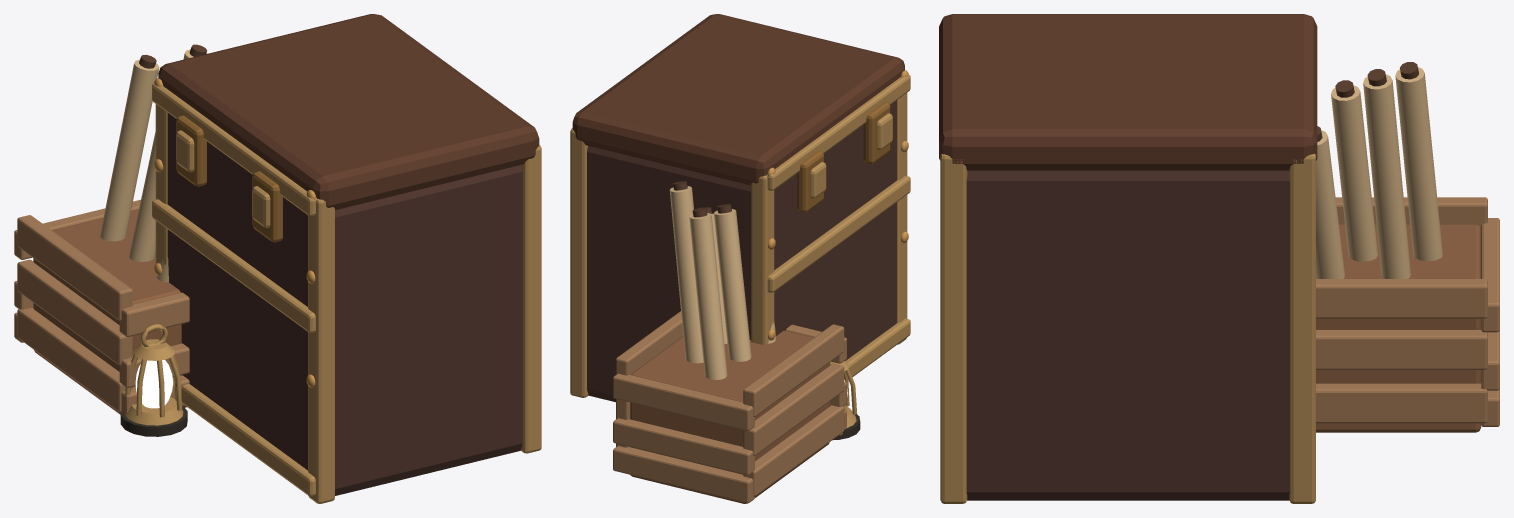
The model's file is SM_Menu_ForegroundProps.fbx.
The picture shows the model from 3 angles, left to right: view 1: azimuth 30°, elevation 25°; view 2: azimuth 150°, elevation 25°; view 3: azimuth 270°, elevation 25°; orthographic projection. The views are drawn at different scales.
Parts seen in each view (by area): view 1: SM_Menu_ForegroundProps; view 2: SM_Menu_ForegroundProps; view 3: SM_Menu_ForegroundProps.
Part boxes in pixels (left/top/right/bottom): SM_Menu_ForegroundProps: left=14, top=14, right=541, bottom=503; SM_Menu_ForegroundProps: left=570, top=14, right=910, bottom=503; SM_Menu_ForegroundProps: left=939, top=14, right=1499, bottom=503.
Size of the model in its own units: 144 by 209 by 156.
